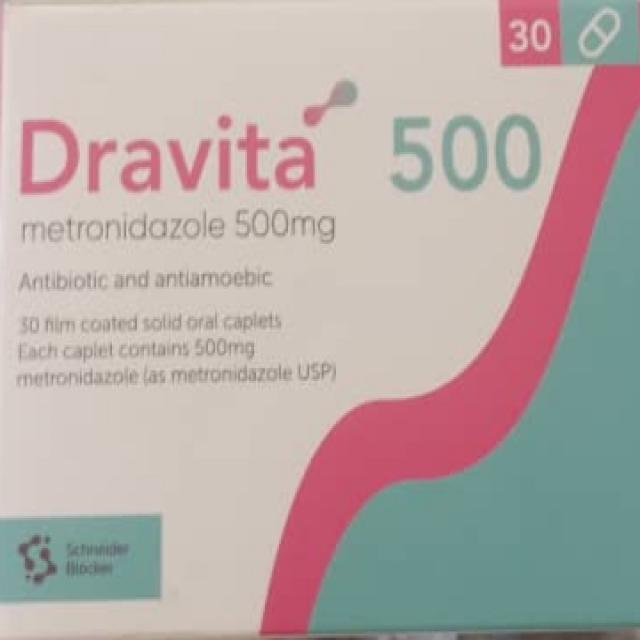drug-name: (20, 112, 544, 194)
